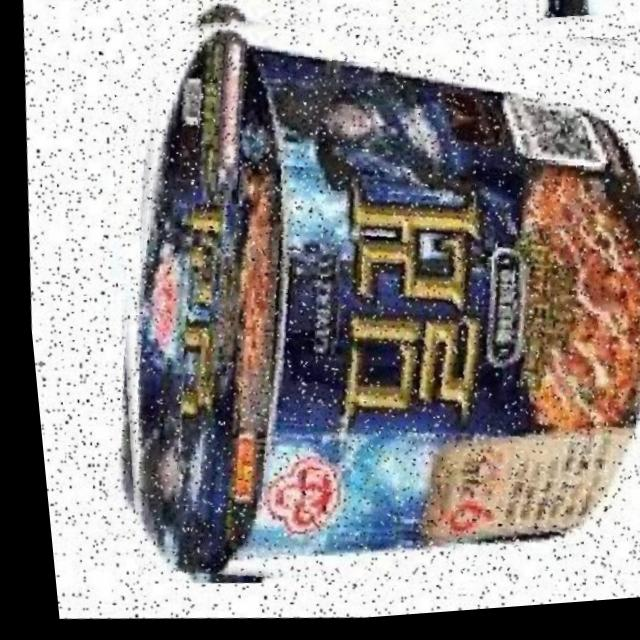Miscellaneous: (61, 0, 640, 622)
